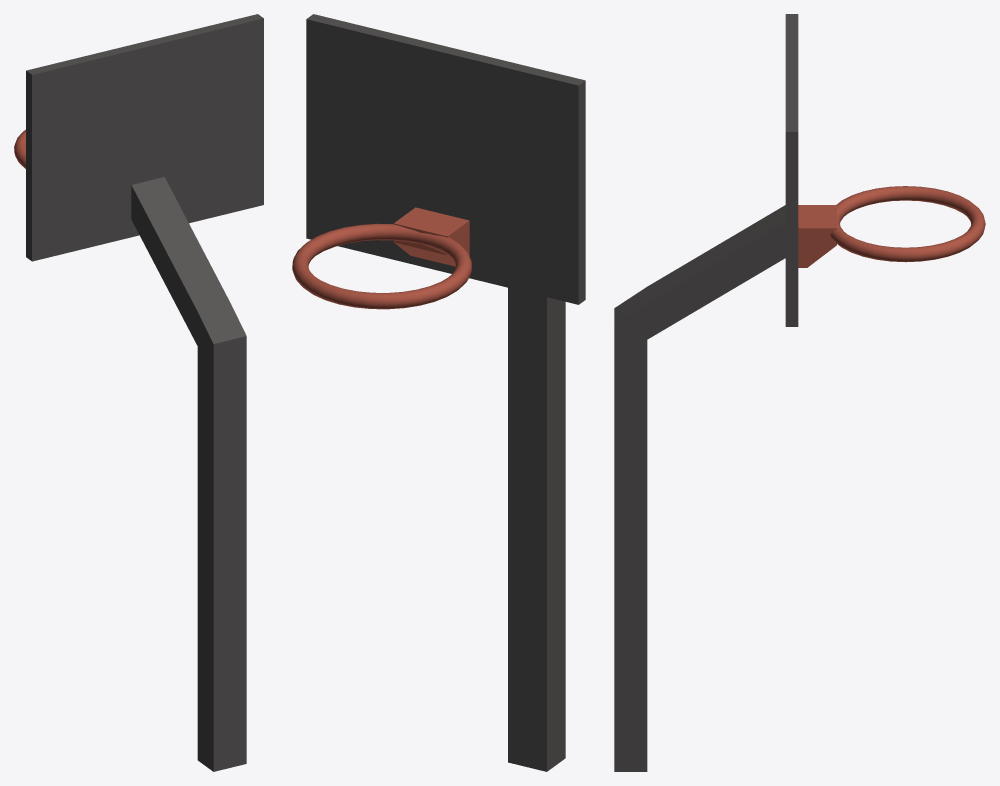
Rendered from Basketball_Ring.fbx.
3 renders of one model, left to right at view 1: azimuth 30°, elevation 25°; view 2: azimuth 150°, elevation 25°; view 3: azimuth 270°, elevation 25°, orthographic. The views are drawn at different scales.
Parts seen in each view (by area): view 1: Basketball_Ring; view 2: Basketball_Ring; view 3: Basketball_Ring.
Part boxes in pixels (box(x1,y1,x2,y2)): Basketball_Ring: box(14, 14, 263, 771); Basketball_Ring: box(292, 14, 585, 771); Basketball_Ring: box(614, 14, 985, 771).
Size of the model in its own units: 64.6 by 176 by 85.88.
